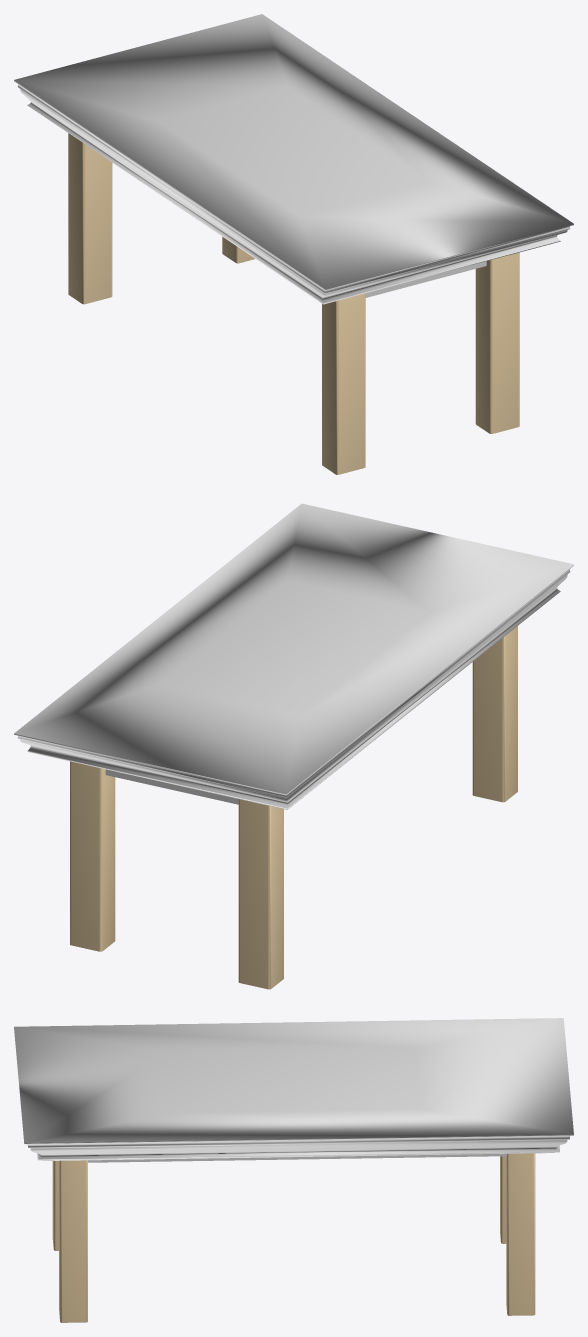
Rendered from bureau.glb.
The picture shows the model from 3 angles, top to bottom: view 1: azimuth 30°, elevation 25°; view 2: azimuth 150°, elevation 25°; view 3: azimuth 270°, elevation 25°; orthographic projection. The views are drawn at different scales.
Visible parts, largest first — view 1: Table.001, LEG.001, LEG.003, LEG.002, Cube.003; view 2: Table.001, LEG.002, LEG, LEG.003, Cube.005; view 3: Table.001, LEG, LEG.001, Cube.004, LEG.003, LEG.002.
Part boxes in pixels (<box>): Table.001: <box>14,14,573,304</box>; LEG.001: <box>475,252,519,433</box>; LEG.003: <box>322,293,365,474</box>; LEG.002: <box>68,133,112,304</box>; Cube.003: <box>365,261,486,297</box>; Table.001: <box>14,503,573,809</box>; LEG.002: <box>238,799,283,989</box>; LEG: <box>70,761,115,951</box>; LEG.003: <box>472,626,517,802</box>; Cube.005: <box>105,769,238,804</box>; Table.001: <box>14,1018,573,1160</box>; LEG: <box>506,1153,535,1315</box>; LEG.001: <box>59,1160,87,1322</box>; Cube.004: <box>88,1153,506,1162</box>; LEG.003: <box>52,1161,58,1250</box>; LEG.002: <box>500,1156,506,1243</box>.
Size of the model in its own units: 1.37 by 1 by 2.6.
